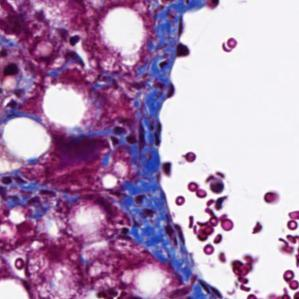inflammation: (0, 170, 58, 213)
